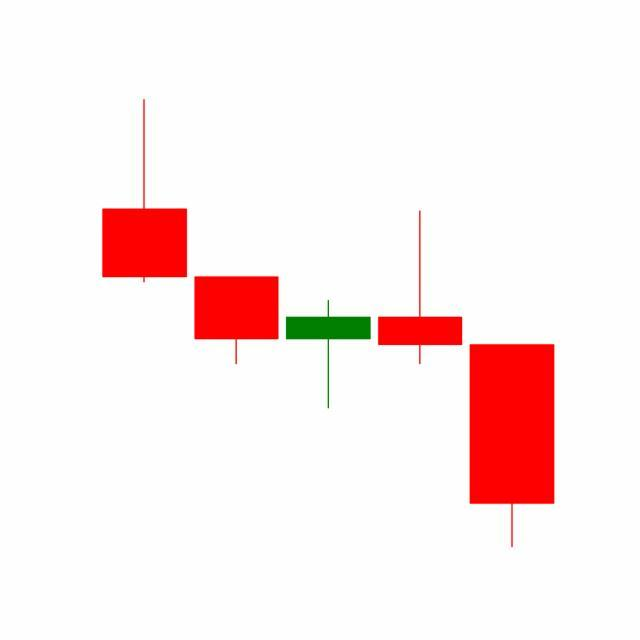Marubozu: (466, 342, 559, 550)
